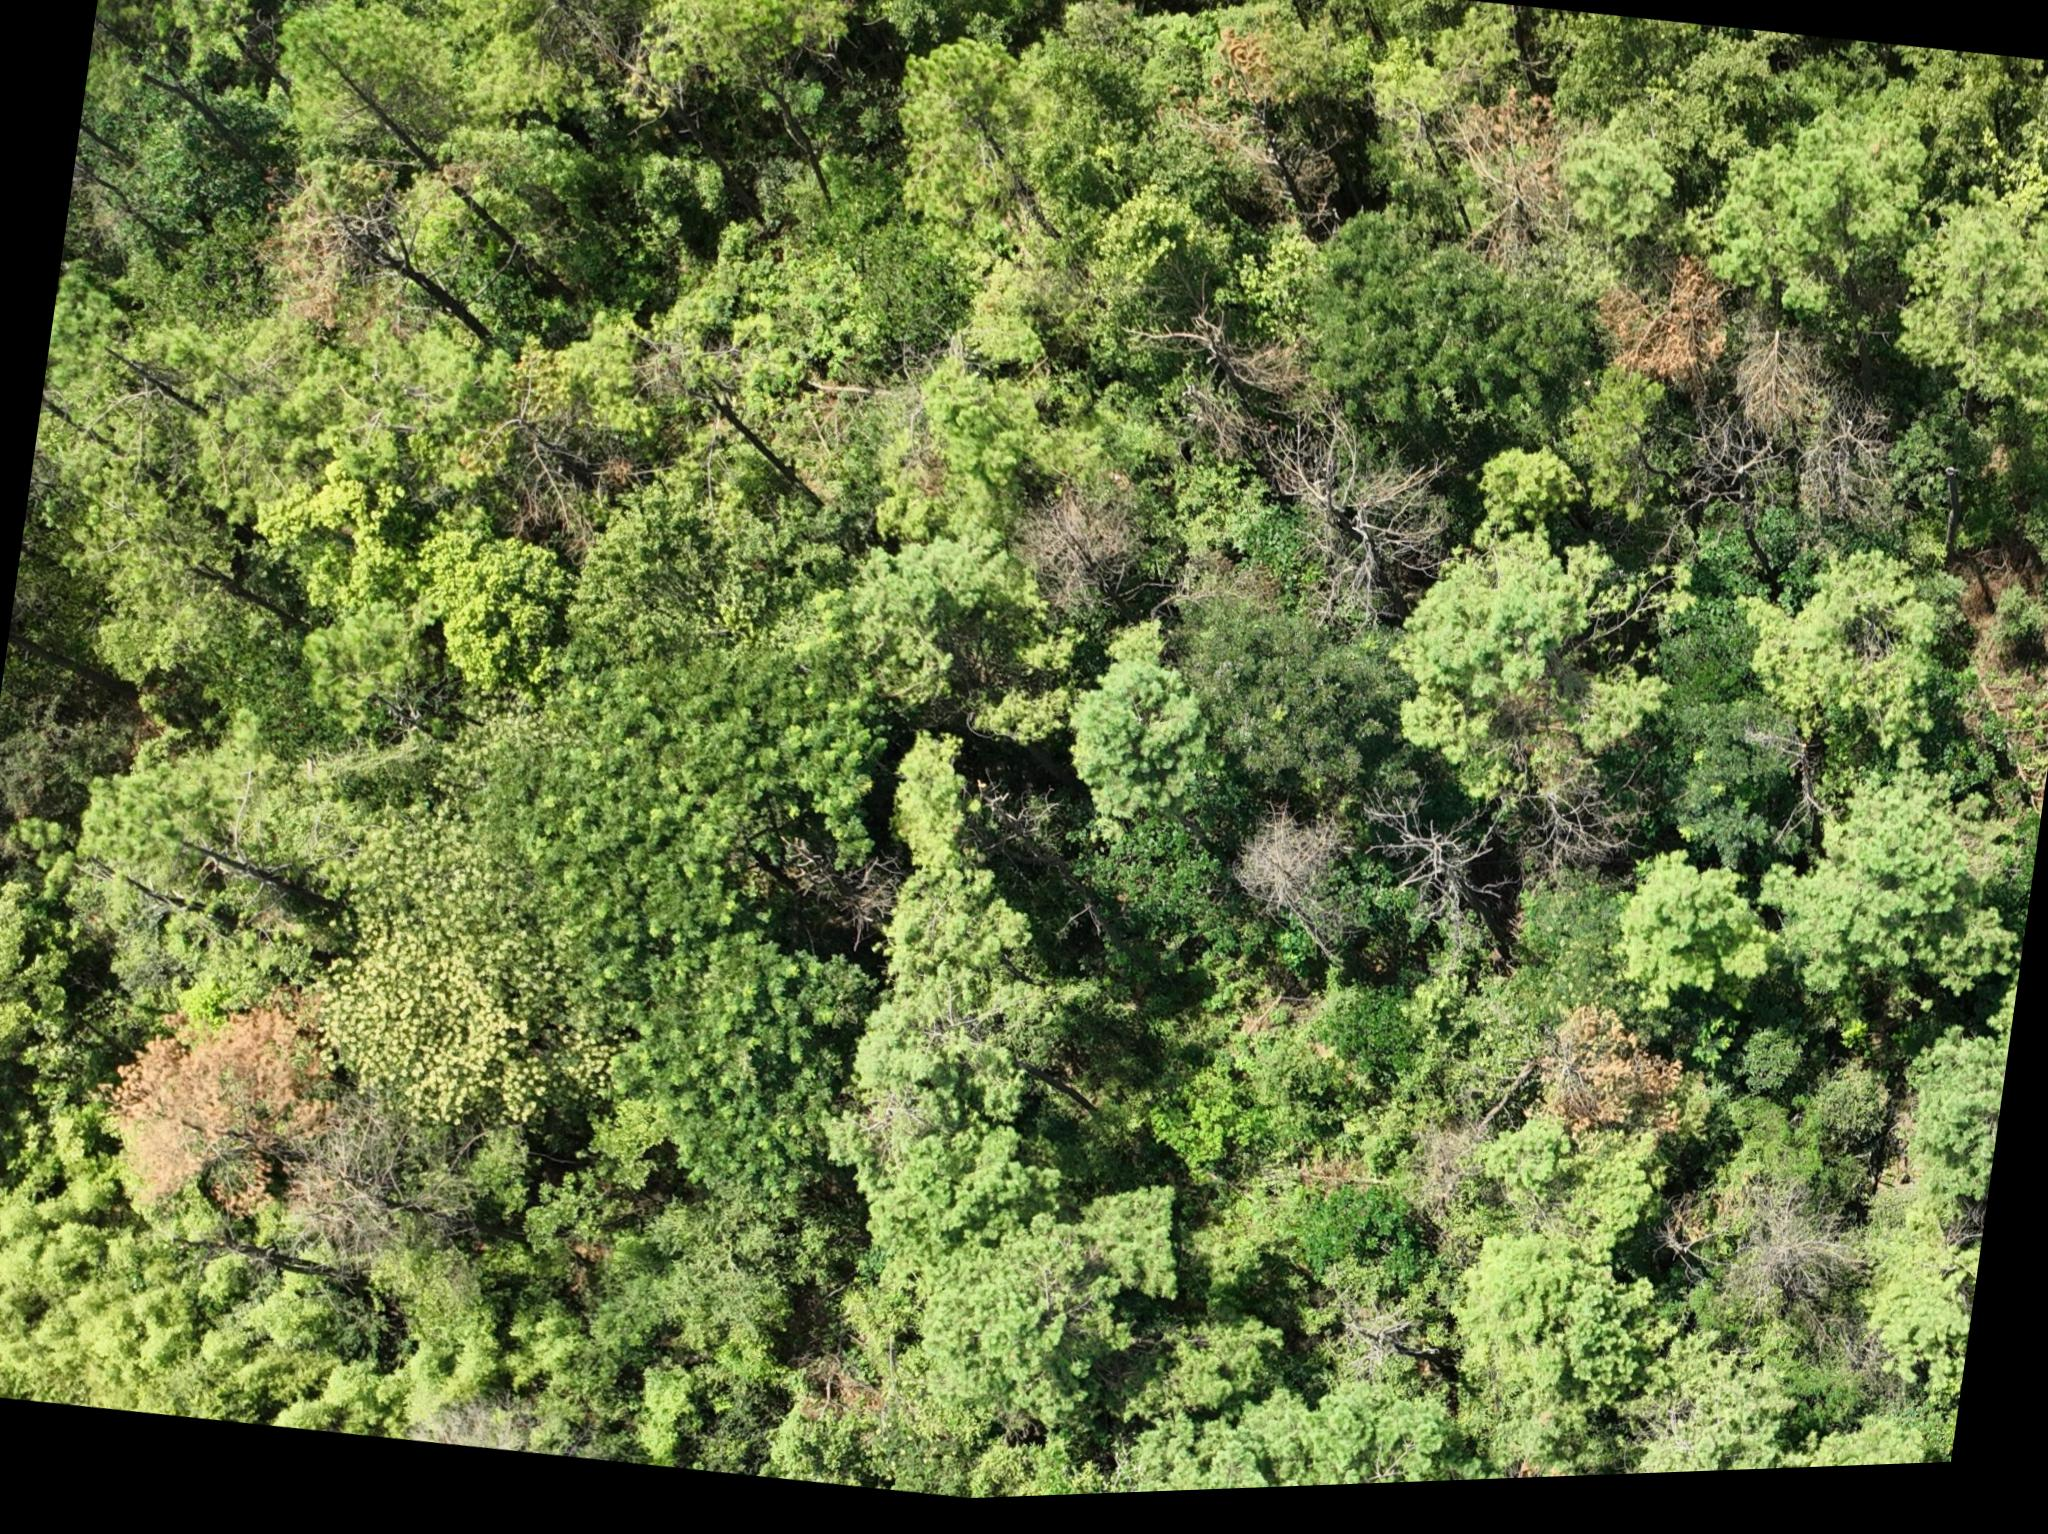dead: (1714, 1197, 1863, 1331), (1368, 798, 1505, 935), (301, 1126, 421, 1270), (1231, 814, 1344, 923), (1732, 338, 1824, 456), (1811, 429, 1900, 529)
heavy: (97, 978, 322, 1220), (1548, 1004, 1698, 1157), (1449, 90, 1563, 259), (1595, 269, 1734, 403)
